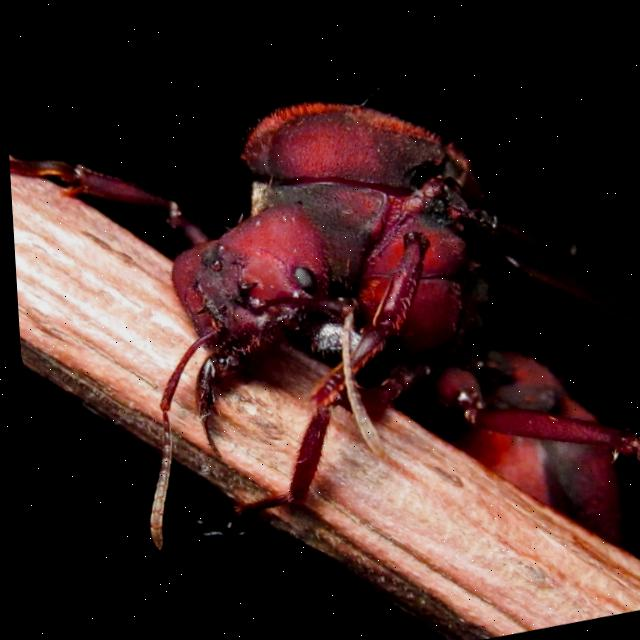Alive-Female-Alate: (0, 1, 640, 640)
